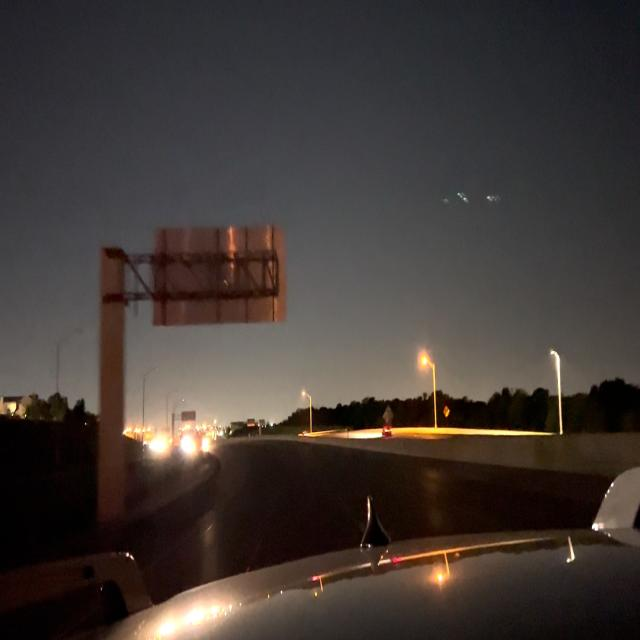back-of-sign: (158, 226, 285, 325)
